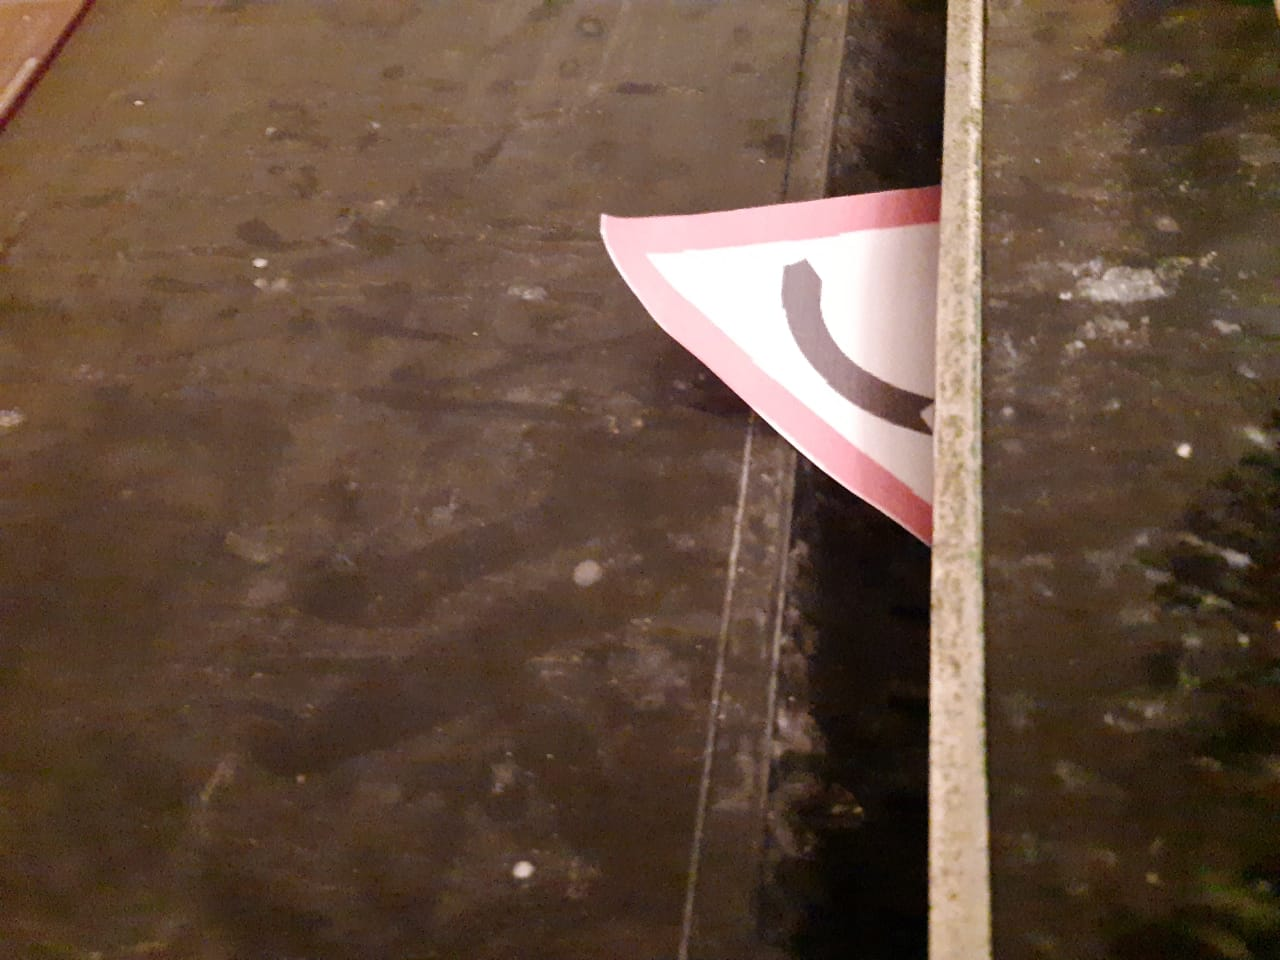RIGHT CURVE: (569, 148, 1010, 541)
